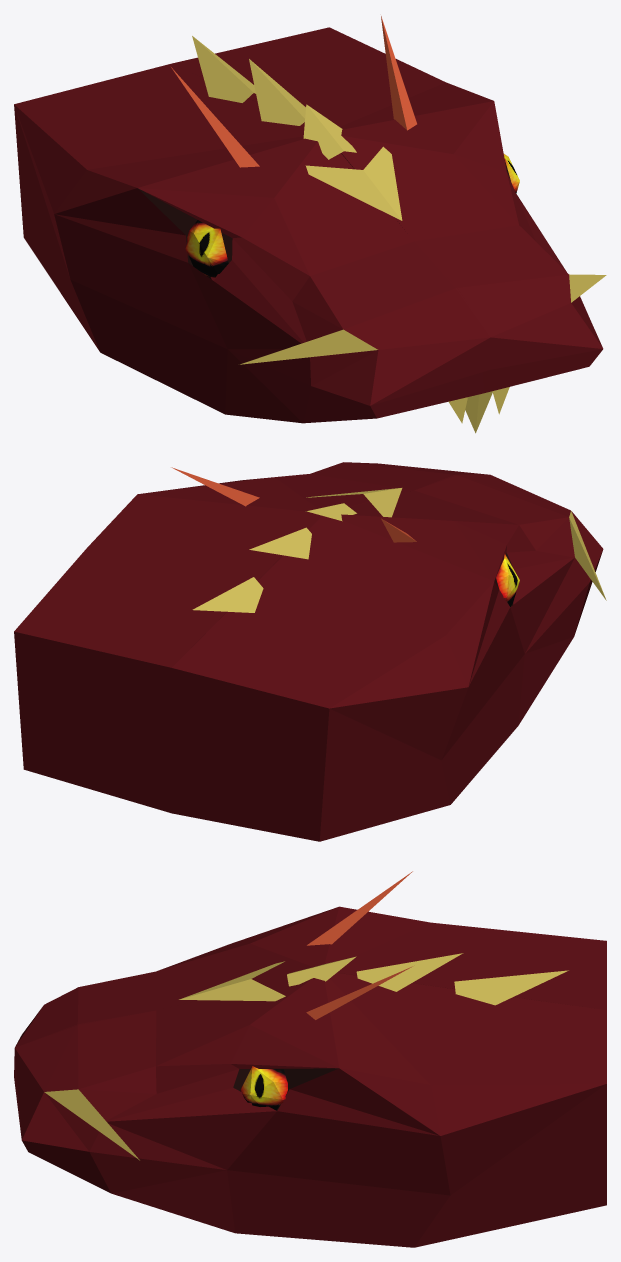
The model's file is snakehead-lowp-evol1.fbx.
3 renders of one model, top to bottom at view 1: azimuth 30°, elevation 25°; view 2: azimuth 150°, elevation 25°; view 3: azimuth 270°, elevation 25°, orthographic. The views are drawn at different scales.
Visible parts, largest first — view 1: Cube; view 2: Cube; view 3: Cube.
Part boxes in pixels (<box>): Cube: <box>14,16,606,433</box>; Cube: <box>14,462,606,841</box>; Cube: <box>14,871,606,1247</box>.
Size of the model in its own units: 200 by 125 by 267.
